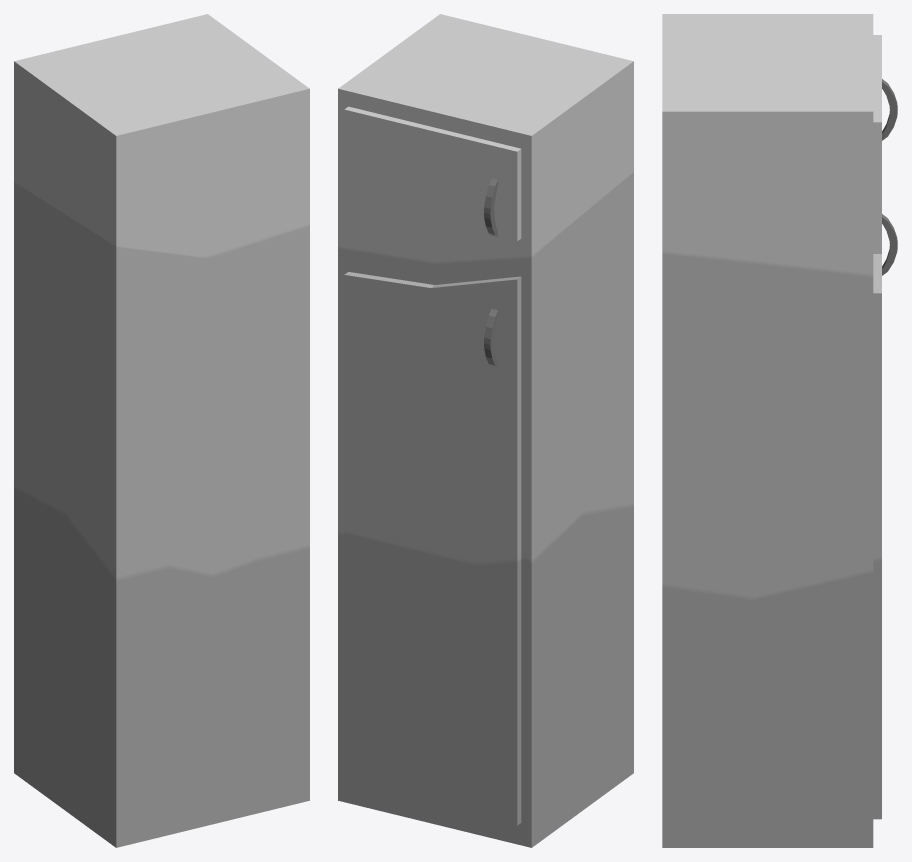
Rendered from kitchenCupboards.fbx.
3 views of the same model, side by side, from view 1: azimuth 30°, elevation 25°; view 2: azimuth 150°, elevation 25°; view 3: azimuth 270°, elevation 25° (orthographic). The views are drawn at different scales.
Visible parts, largest first — view 1: geo_kitchenCupboards; view 2: geo_kitchenCupboards; view 3: geo_kitchenCupboards.
Boxes of the visible parts, x1,y1,x2,y2 form: geo_kitchenCupboards: (14, 14, 309, 847); geo_kitchenCupboards: (338, 14, 633, 847); geo_kitchenCupboards: (662, 14, 897, 847).
Size of the model in its own units: 61.85 by 217 by 62.99.
1 material, 1 textured.
